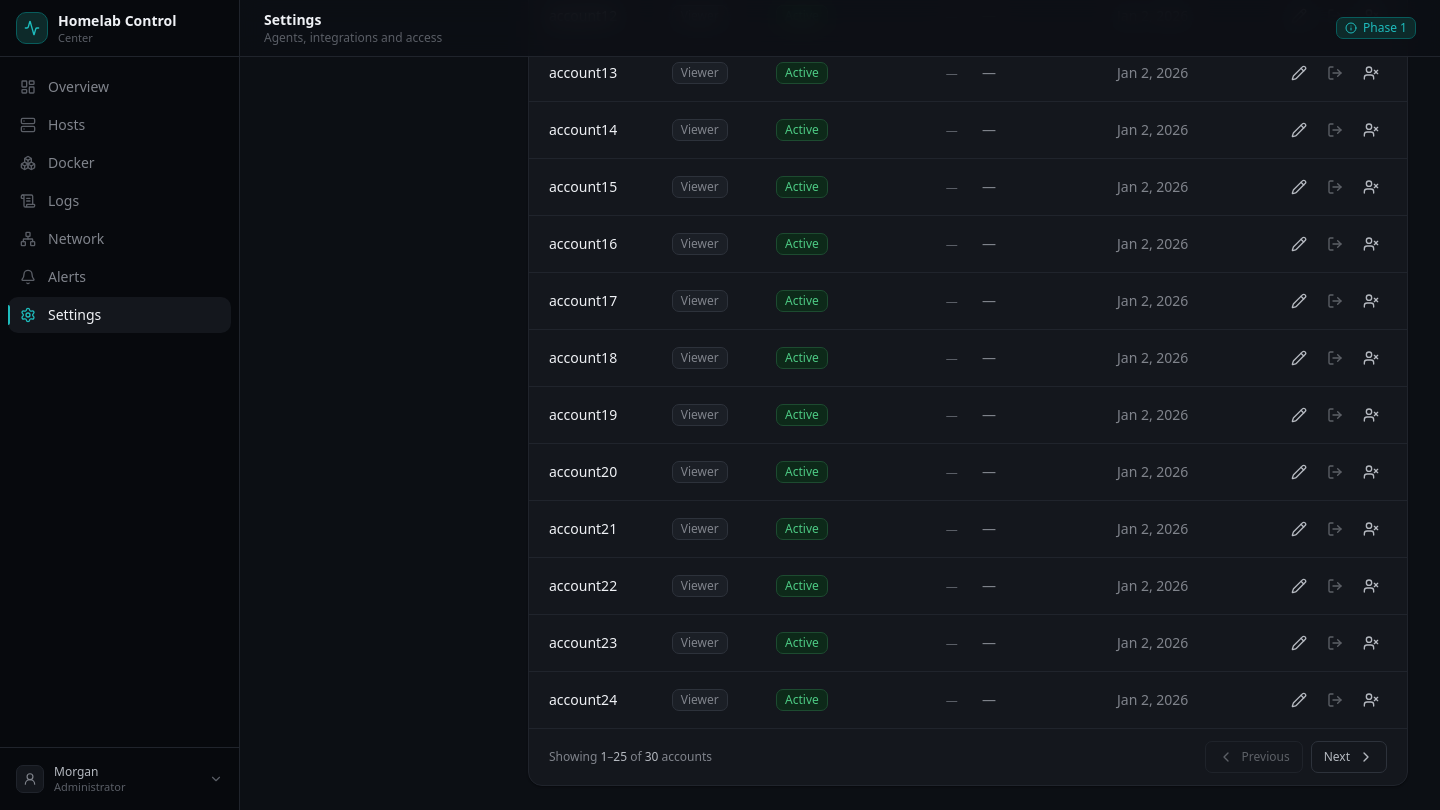
Scenario: user list pagination › walks to the next page without repeating a row
(page scrolled)
Click the button "Next".
click(1349, 756)  # box [1311, 740, 1387, 772]
(page scrolled)
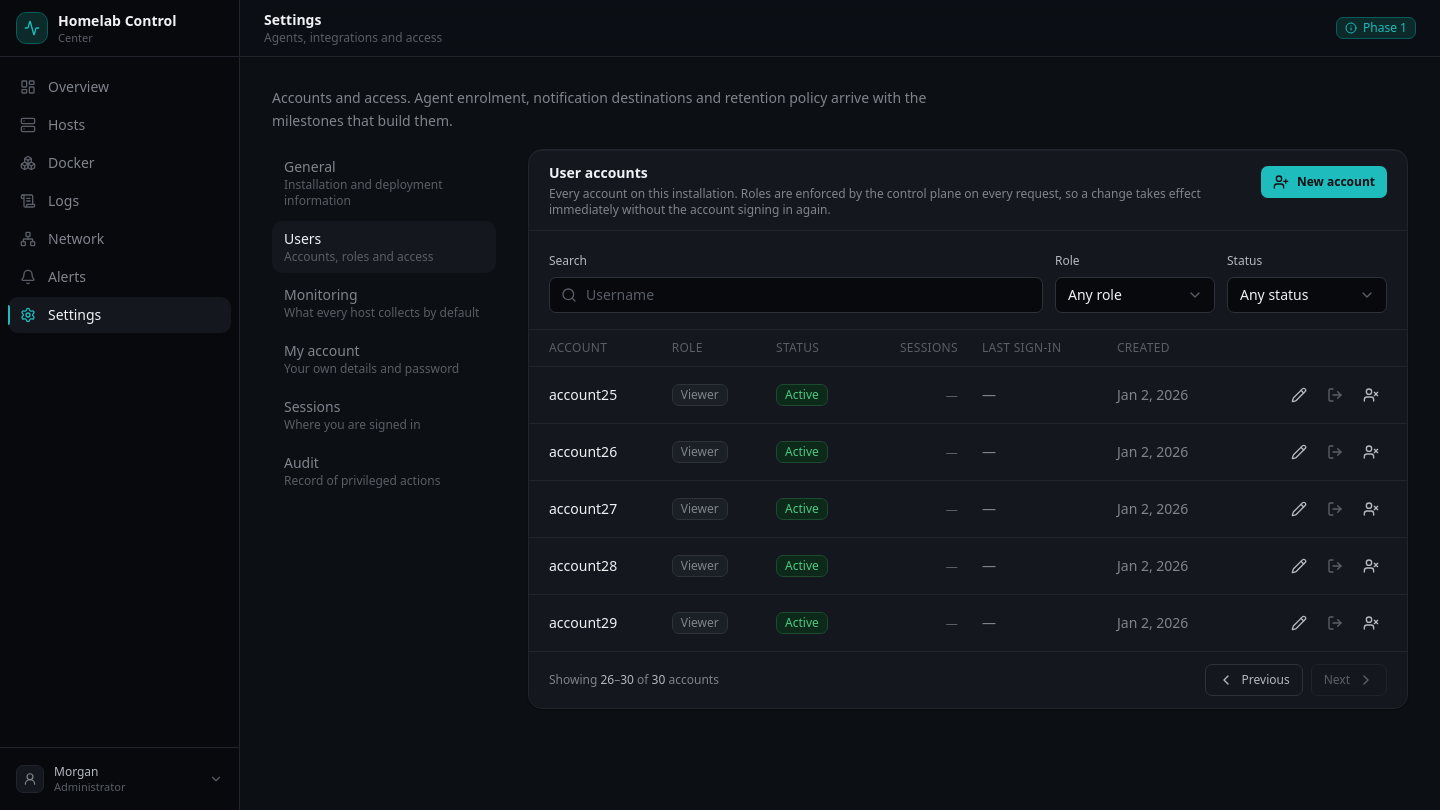
Expected: the text "account29" is shown, [549, 612, 617, 632]
